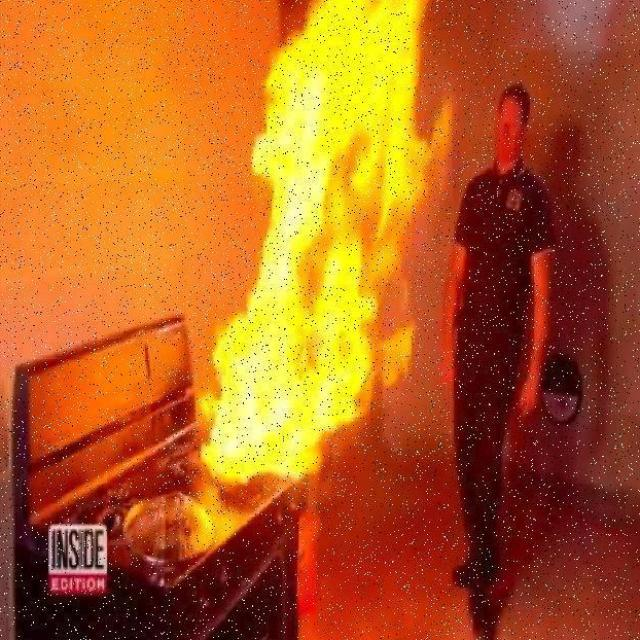smoke: (200, 0, 433, 491)
